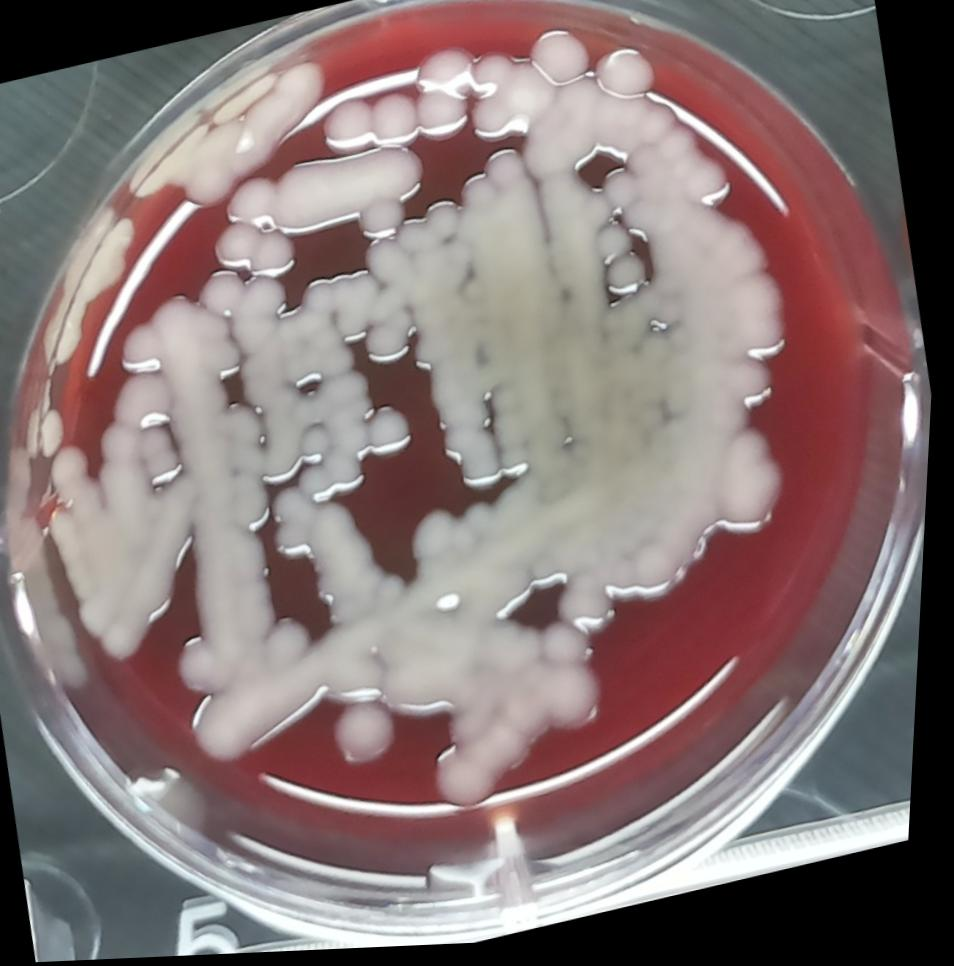ahydrophila: (421, 660, 627, 814), (263, 136, 438, 263), (709, 425, 804, 548), (205, 212, 304, 294), (519, 17, 599, 101), (330, 696, 416, 773), (587, 40, 664, 121), (307, 90, 380, 165), (362, 85, 429, 159), (365, 400, 422, 468), (220, 169, 285, 228), (261, 612, 323, 672), (598, 253, 656, 312), (598, 164, 649, 219), (587, 220, 639, 268)
